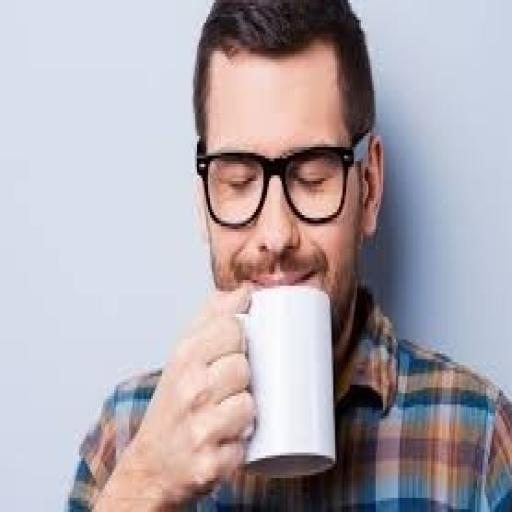drinking: (232, 283, 337, 478)
